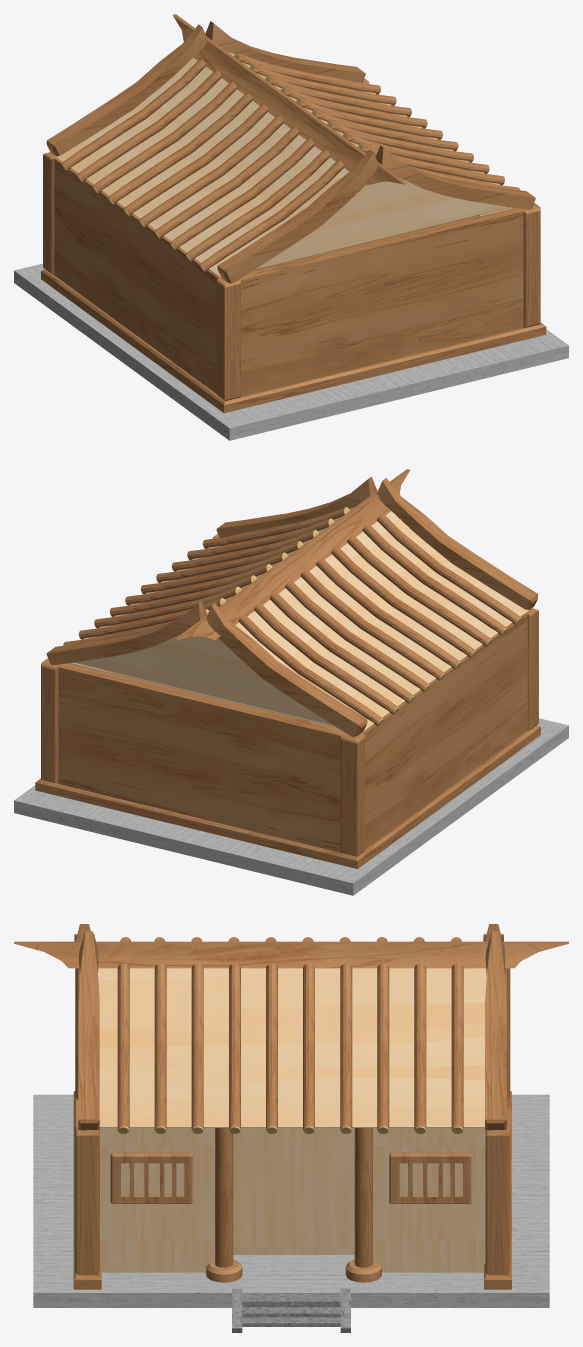
Rendered from minju2.fbx.
The picture shows the model from 3 angles, top to bottom: view 1: azimuth 30°, elevation 25°; view 2: azimuth 150°, elevation 25°; view 3: azimuth 270°, elevation 25°; orthographic projection. The views are drawn at different scales.
Visible parts, largest first — view 1: minju2; view 2: minju2; view 3: minju2.
Part boxes in pixels (left/top/right/bottom): minju2: left=14, top=14, right=568, bottom=440; minju2: left=14, top=469, right=568, bottom=895; minju2: left=14, top=924, right=568, bottom=1332.
Size of the model in its own units: 5.82 by 3.44 by 6.13.
